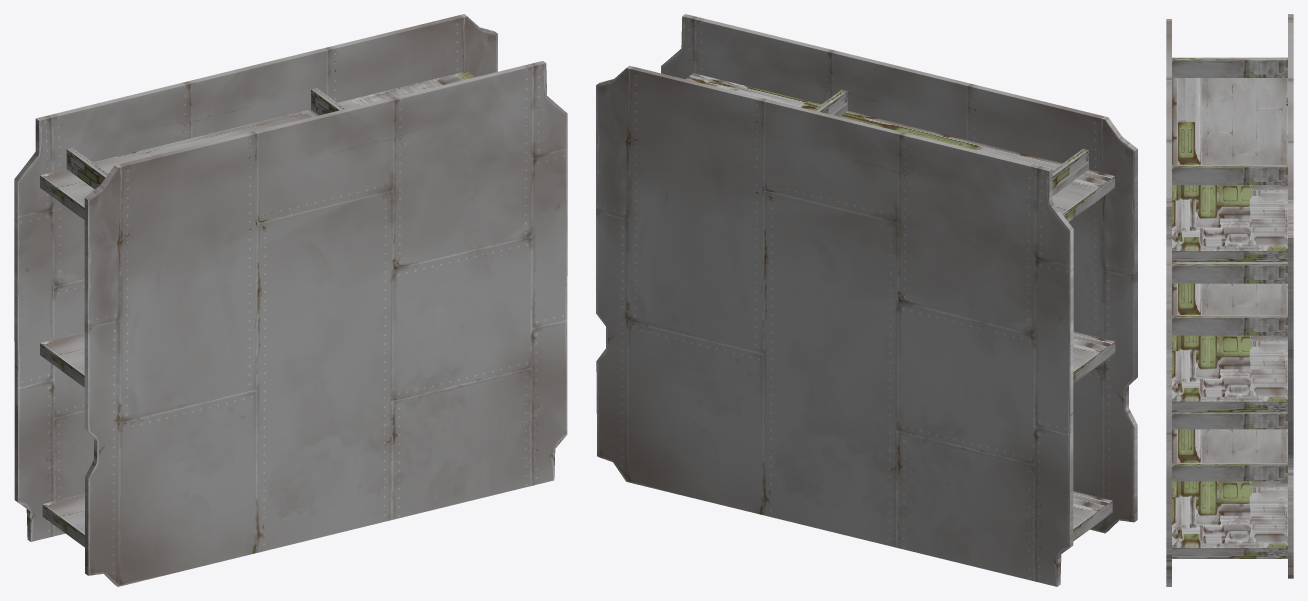
File: HubFloor5_COL1.FBX
The picture shows the model from 3 angles, left to right: view 1: azimuth 30°, elevation 25°; view 2: azimuth 150°, elevation 25°; view 3: azimuth 270°, elevation 25°; orthographic projection. The views are drawn at different scales.
Parts seen in each view (by area): view 1: HubFloor5_COL1; view 2: HubFloor5_COL1; view 3: HubFloor5_COL1.
Part boxes in pixels (left/top/right/bottom): HubFloor5_COL1: left=14, top=14, right=567, bottom=586; HubFloor5_COL1: left=596, top=14, right=1137, bottom=586; HubFloor5_COL1: left=1166, top=14, right=1293, bottom=586.
Bounding box in the file's own units: 16.51 × 13.72 × 4.21.
